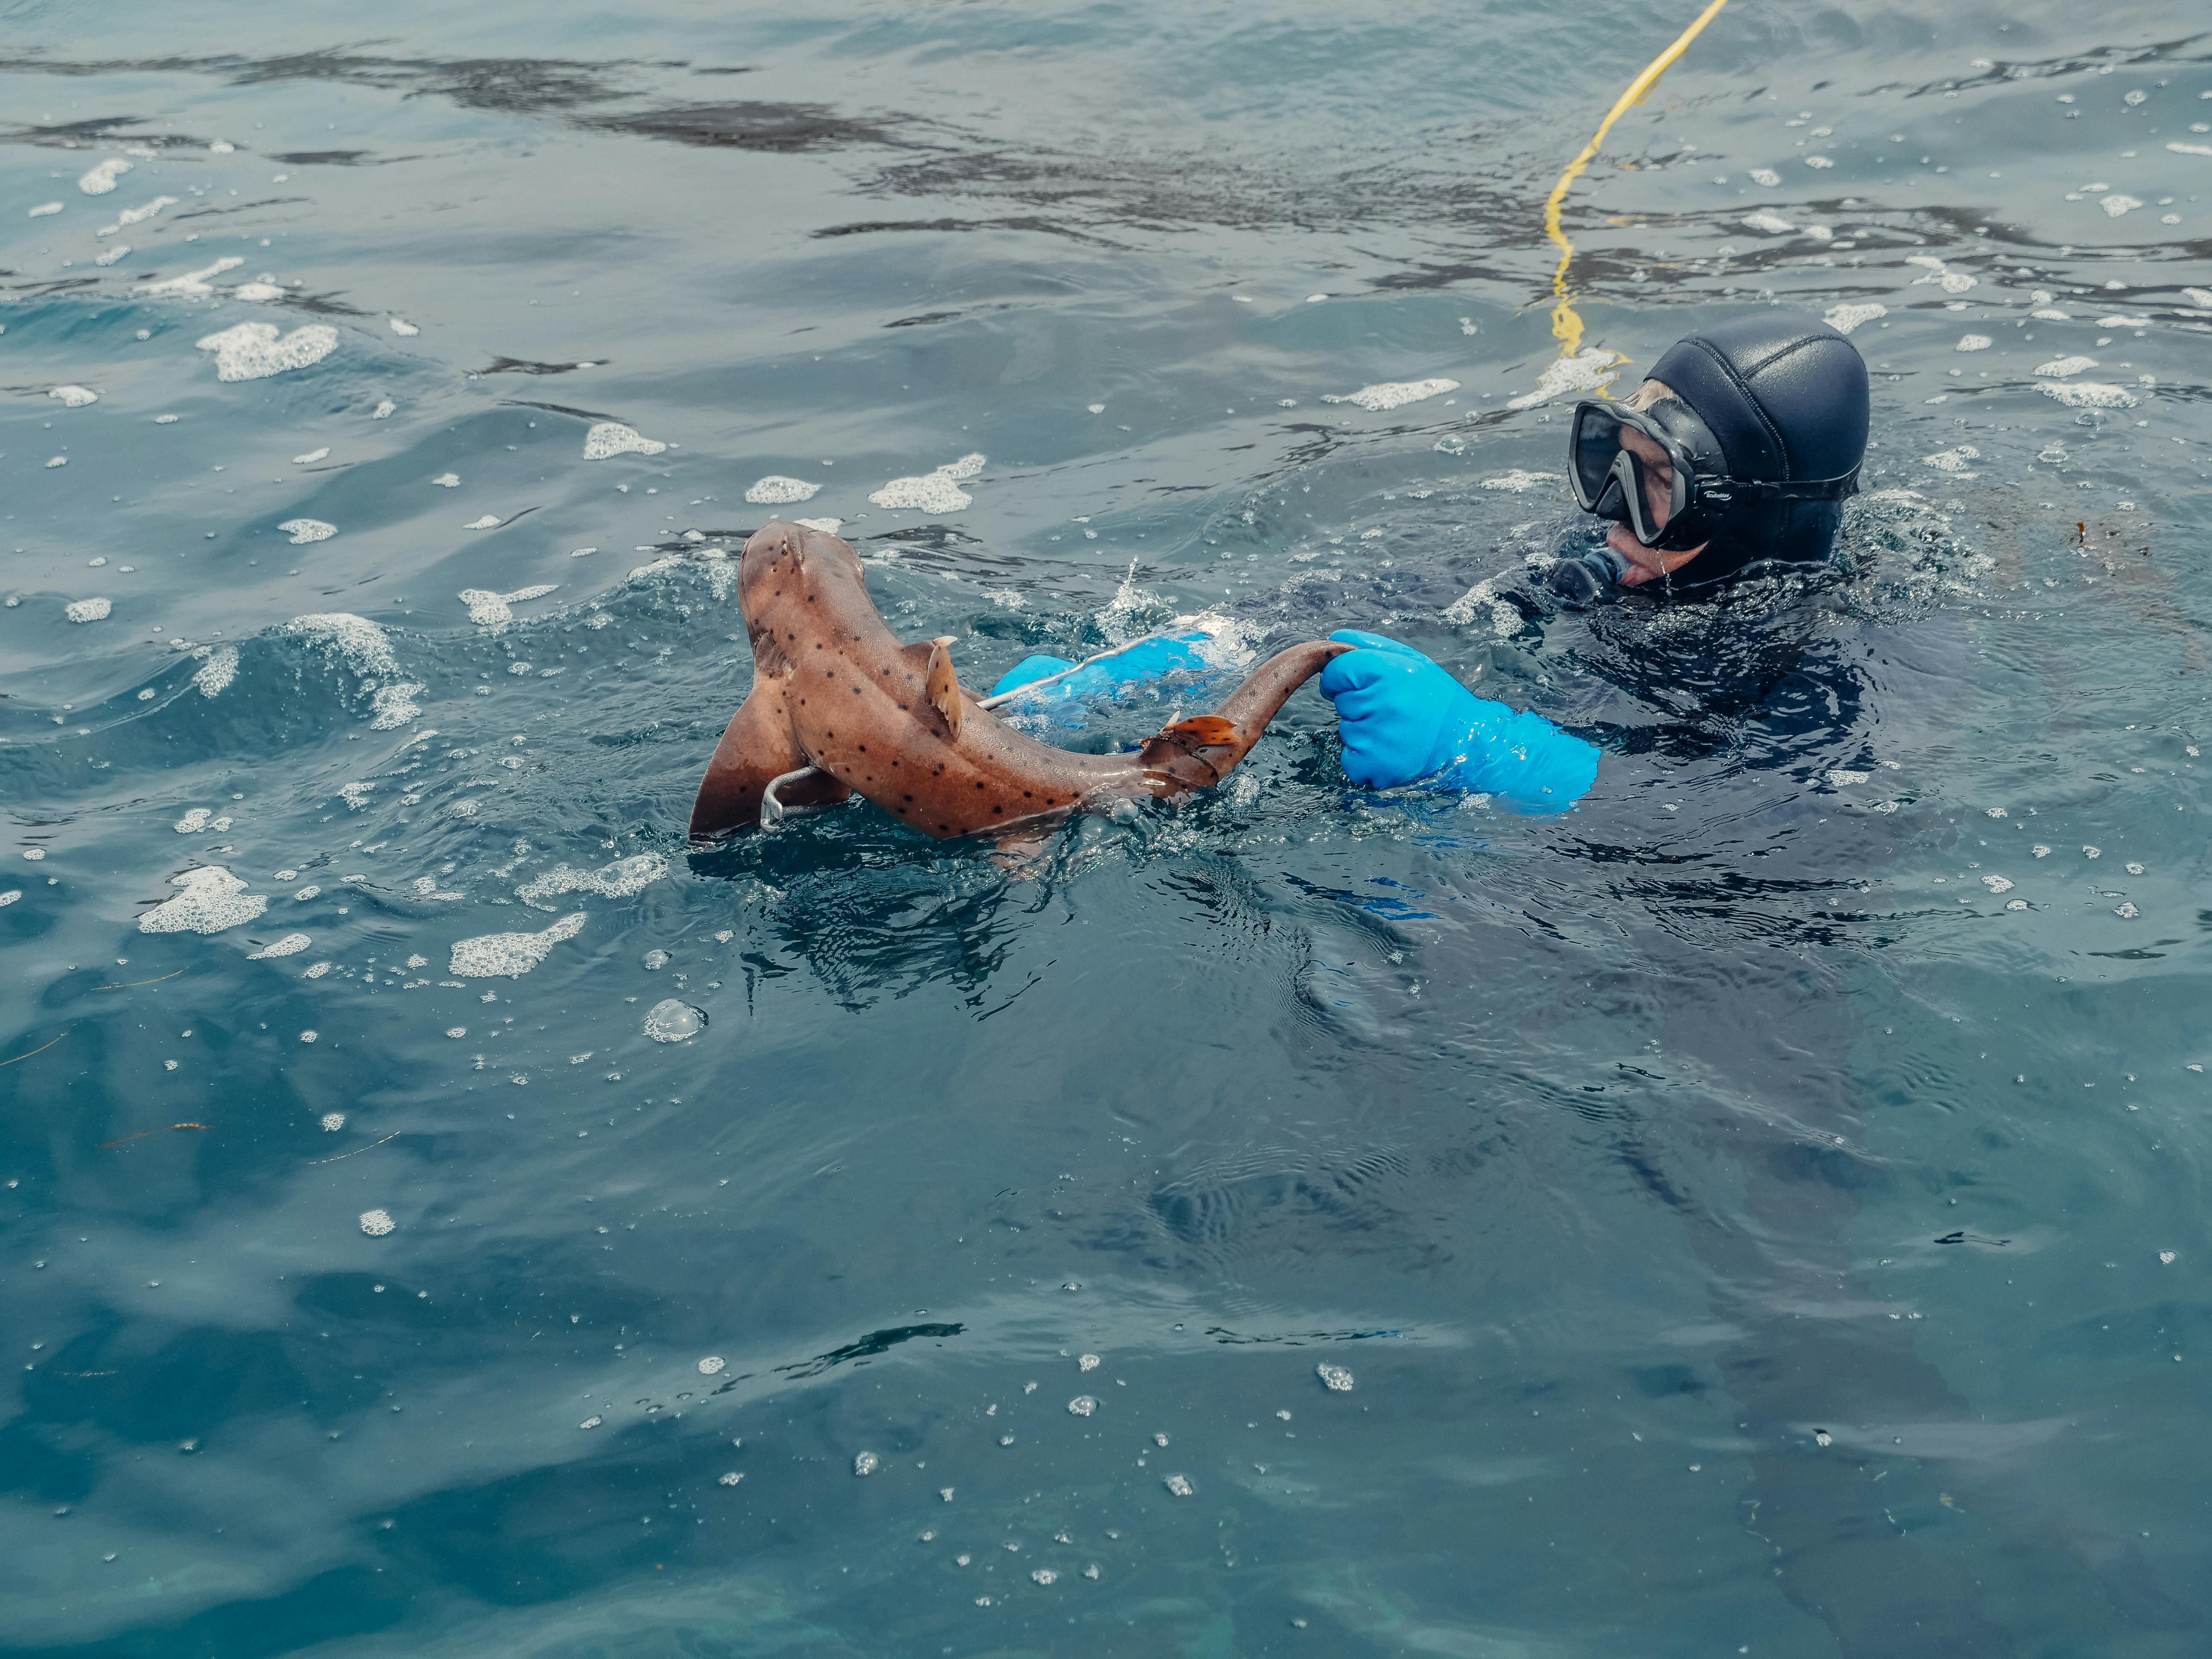shark: (678, 512, 1353, 882)
